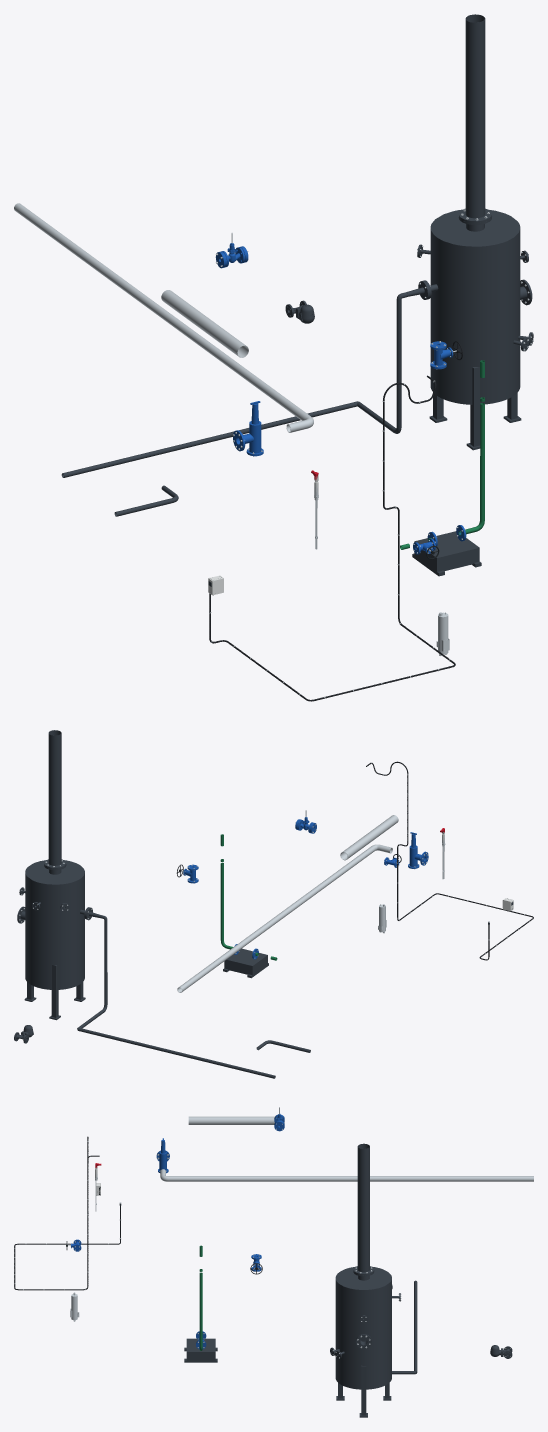
File: s4000-2-7wHgY5uK.glb
The picture shows the model from 3 angles, top to bottom: view 1: azimuth 30°, elevation 25°; view 2: azimuth 150°, elevation 25°; view 3: azimuth 270°, elevation 25°; orthographic projection. The views are drawn at different scales.
Parts seen in each view (by area): view 1: separator_bdv60_5 / dark, bdv_vent / dark, safety_vent_2 / steel, pump_branch_1 / dark, wiring_pressure_switch_3 / black, bottom_discharge / dark, steam_delivery / steel, bottom_to_bdv / dark, pump_branch_1 / green, safety_1 / blue; view 2: separator_bdv60_5 / dark, bdv_vent / dark, safety_vent_2 / steel, pump_branch_1 / dark, wiring_pressure_switch_3 / black, bottom_discharge / dark, steam_delivery / steel, bottom_to_bdv / dark, pump_branch_1 / green; view 3: separator_bdv60_5 / dark, safety_vent_2 / steel, bdv_vent / dark, steam_delivery / steel, wiring_pressure_switch_3 / black, pump_branch_1 / dark.
Part boxes in pixels (x1=…): separator_bdv60_5 / dark: x1=417, y1=209, x2=533, y2=450; bdv_vent / dark: x1=459, y1=14, x2=491, y2=222; safety_vent_2 / steel: x1=14, y1=203, x2=313, y2=432; pump_branch_1 / dark: x1=412, y1=531, x2=481, y2=576; wiring_pressure_switch_3 / black: x1=209, y1=375, x2=455, y2=701; bottom_discharge / dark: x1=61, y1=401, x2=357, y2=477; steam_delivery / steel: x1=161, y1=290, x2=248, y2=357; bottom_to_bdv / dark: x1=357, y1=281, x2=429, y2=433; pump_branch_1 / green: x1=400, y1=360, x2=484, y2=549; safety_1 / blue: x1=233, y1=401, x2=263, y2=456; separator_bdv60_5 / dark: x1=17, y1=860, x2=88, y2=1020; bdv_vent / dark: x1=44, y1=730, x2=66, y2=868; safety_vent_2 / steel: x1=177, y1=844, x2=392, y2=992; pump_branch_1 / dark: x1=223, y1=948, x2=268, y2=978; wiring_pressure_switch_3 / black: x1=366, y1=761, x2=533, y2=960; bottom_discharge / dark: x1=77, y1=1027, x2=275, y2=1078; steam_delivery / steel: x1=340, y1=815, x2=398, y2=860; bottom_to_bdv / dark: x1=77, y1=907, x2=107, y2=1029; pump_branch_1 / green: x1=220, y1=834, x2=277, y2=960; separator_bdv60_5 / dark: x1=330, y1=1266, x2=400, y2=1417; safety_vent_2 / steel: x1=160, y1=1169, x2=533, y2=1181; bdv_vent / dark: x1=353, y1=1143, x2=374, y2=1275; steam_delivery / steel: x1=188, y1=1116, x2=284, y2=1124; wiring_pressure_switch_3 / black: x1=14, y1=1136, x2=120, y2=1290; pump_branch_1 / dark: x1=184, y1=1338, x2=217, y2=1362.
Bounding box in the file's own units: 5.19 × 3.85 × 7.03.
